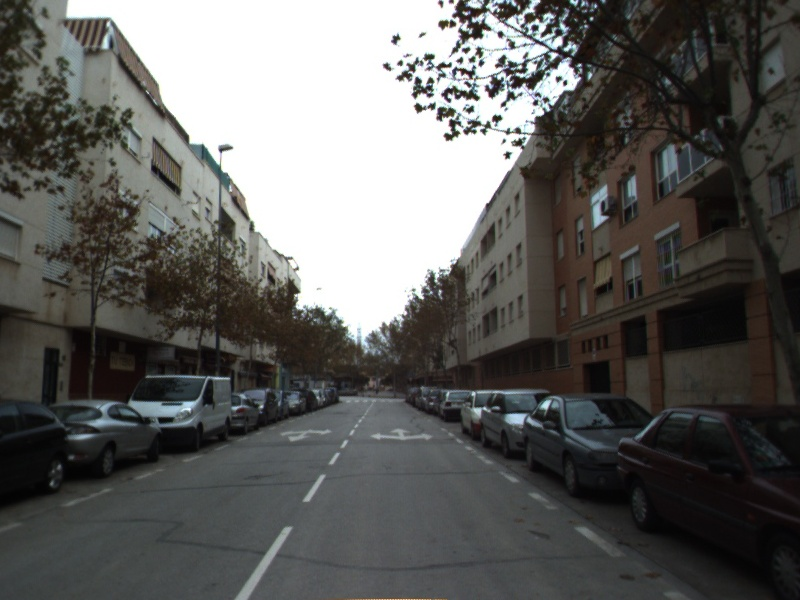STRAIGHT_LEFT_RIGHT: (368, 426, 436, 442)
